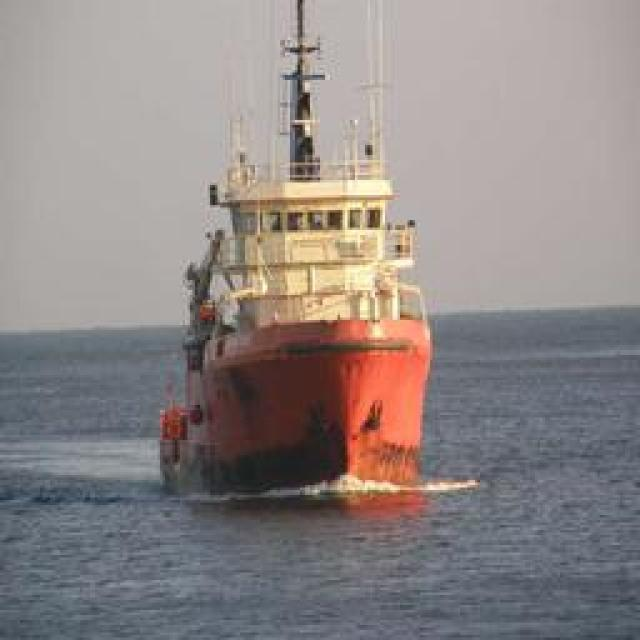ship2: (160, 0, 434, 502)
